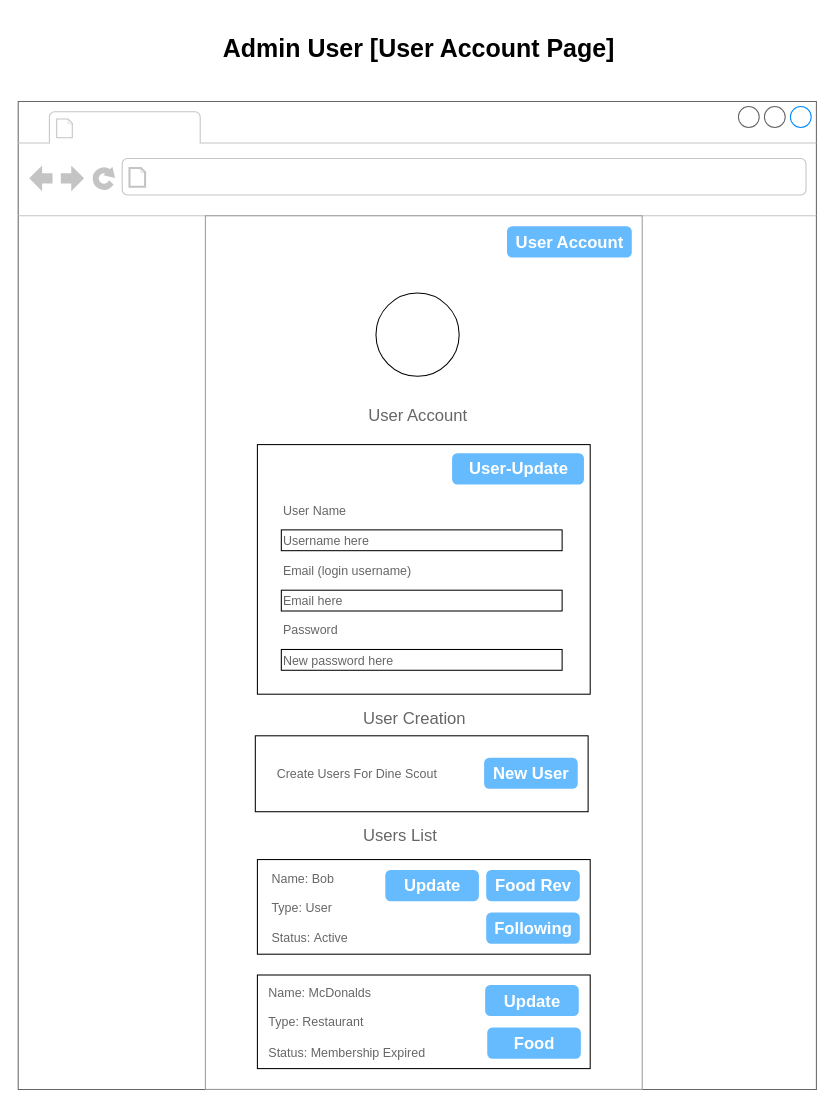
The diagram is 835 pixels wide and 1109 high, and some of its shapes have lost their labels. Here are the shapes that lost their labels. From the top down, the centre of each, then its label:
the point at 137,127: DineScout
the point at 282,177: https://www.dinescout.com/admin_account
the point at 417,334: Logo
